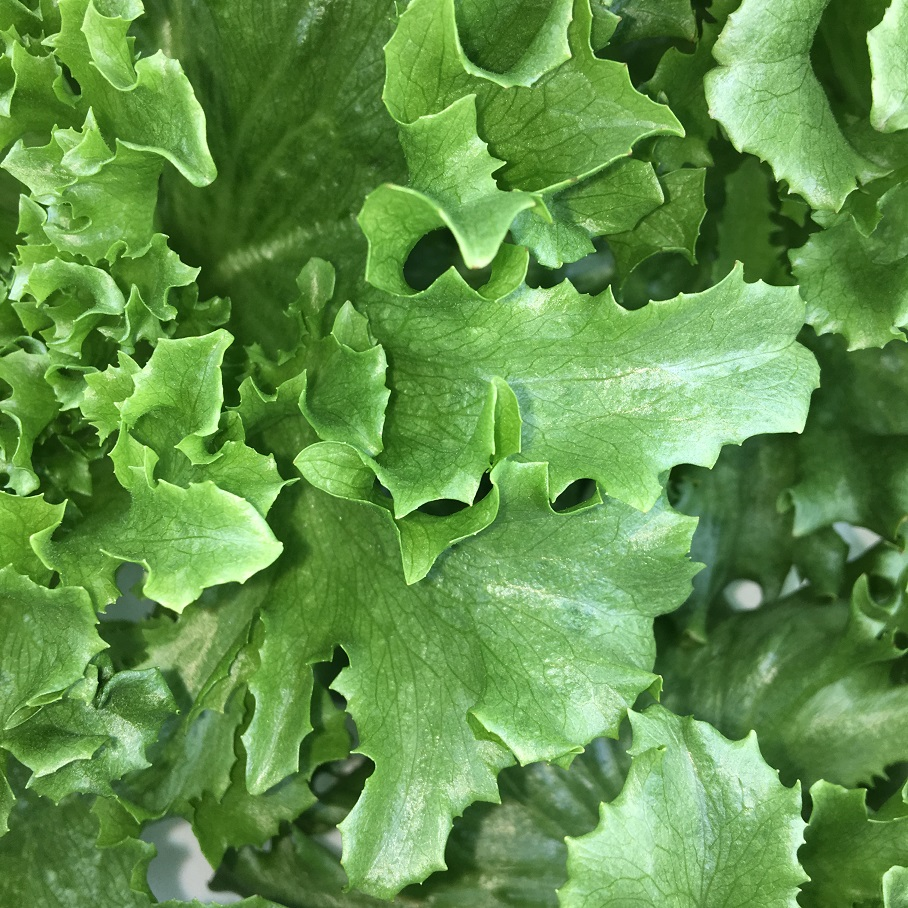tipburn: (461, 251, 500, 281), (617, 145, 641, 168), (565, 169, 591, 190), (520, 242, 535, 259)
